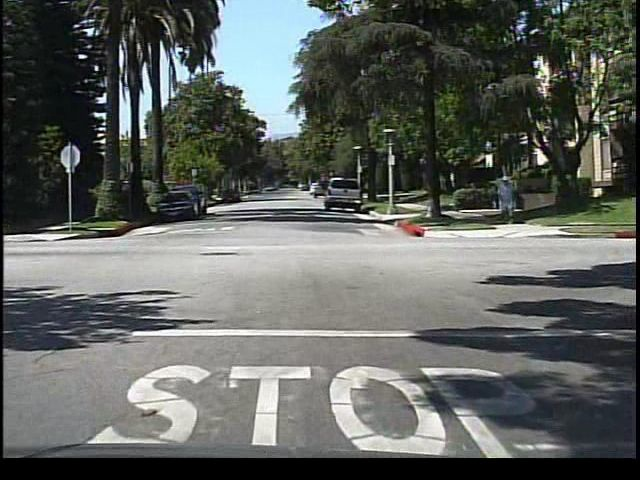person: (494, 171, 520, 226)
